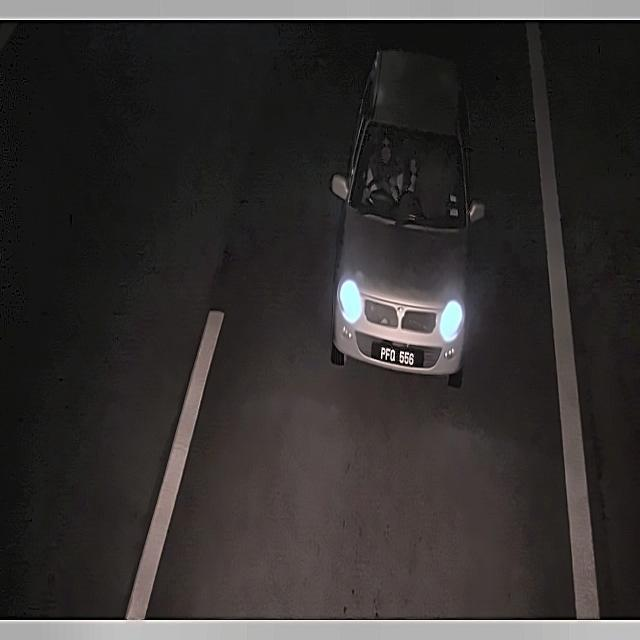car: (370, 336, 427, 373)
